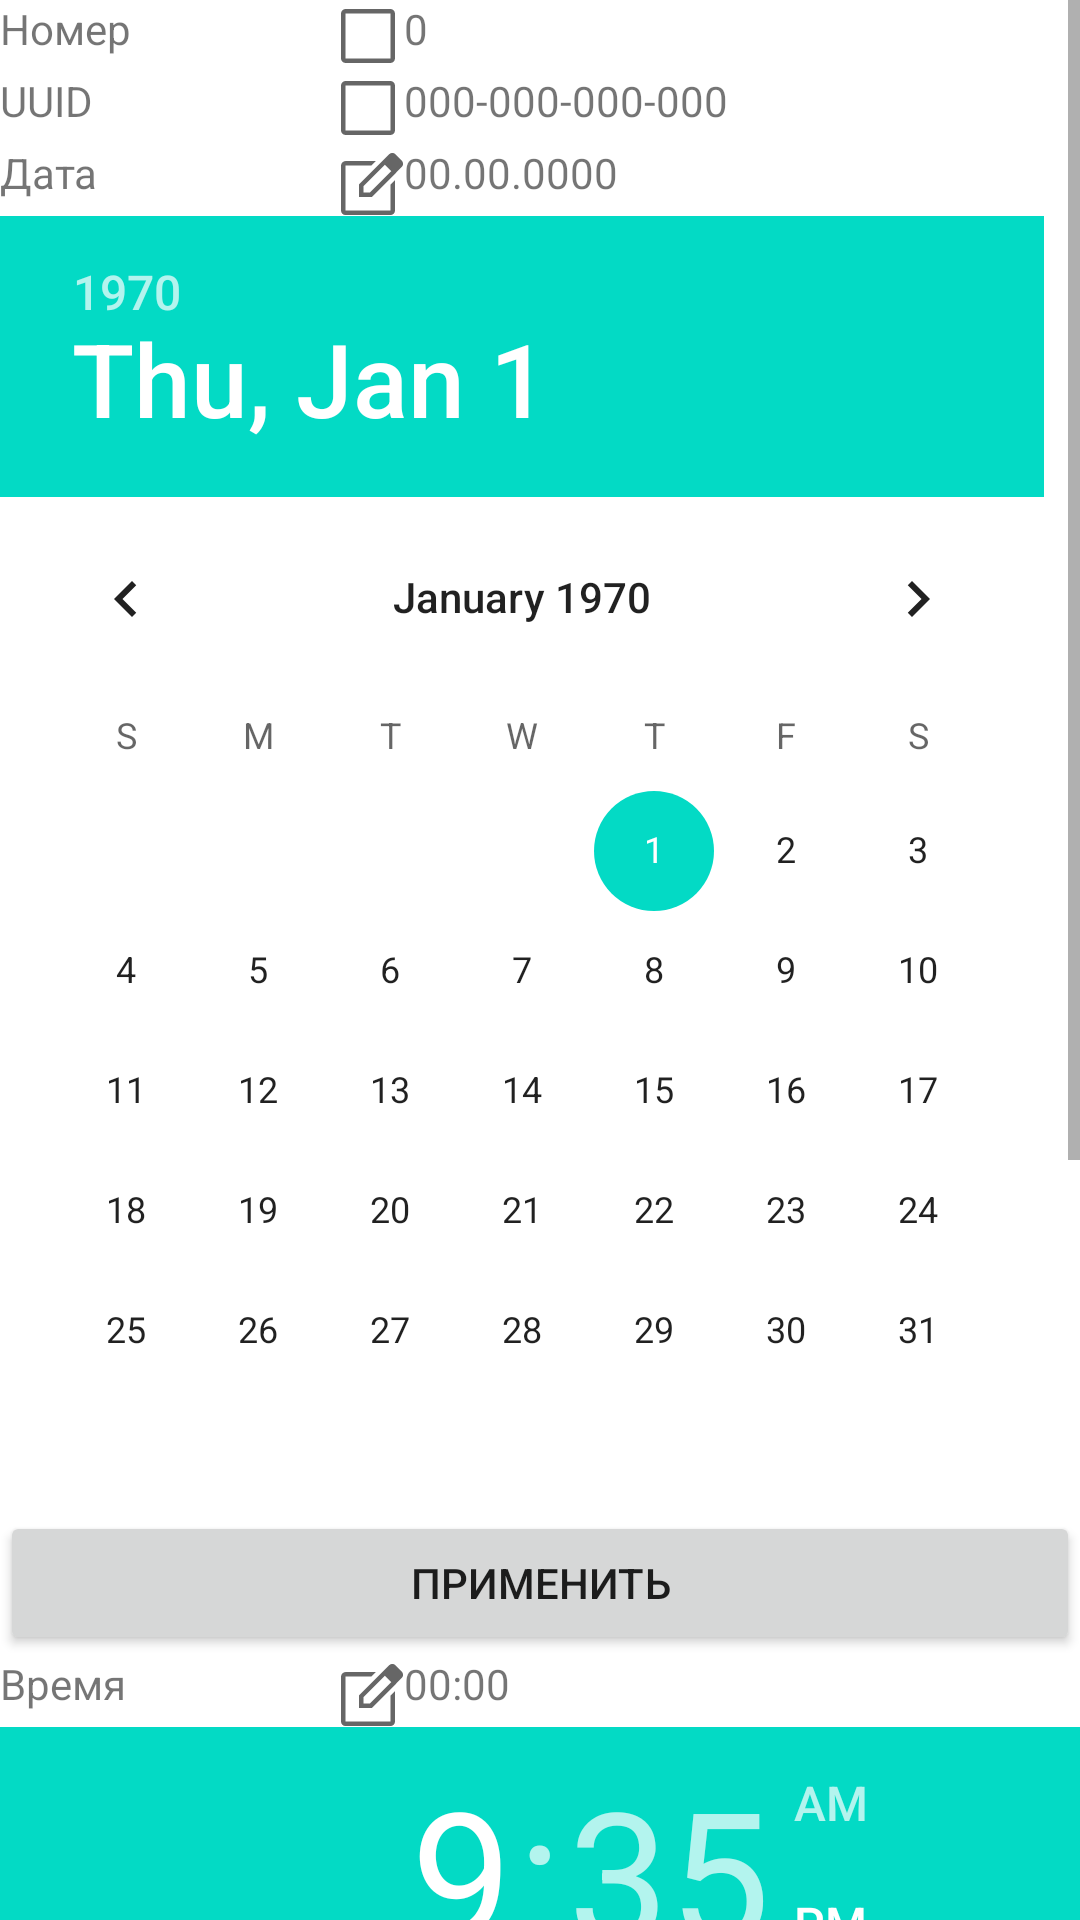

Screen size 1080 × 1920. Icon name, then its box in pixels as (x1, y1, x2, y2):
square: (341, 9, 395, 63), (341, 81, 395, 135)
square edit: (341, 153, 403, 215), (341, 1664, 403, 1726)
